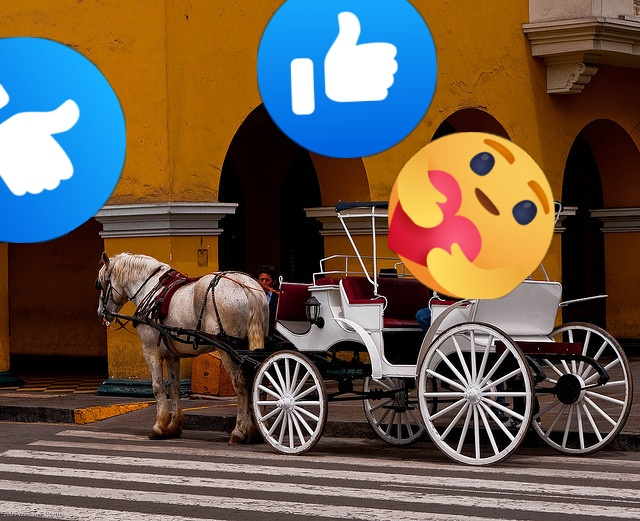care: (388, 132, 555, 299)
like: (257, 0, 437, 158), (0, 37, 126, 243)
